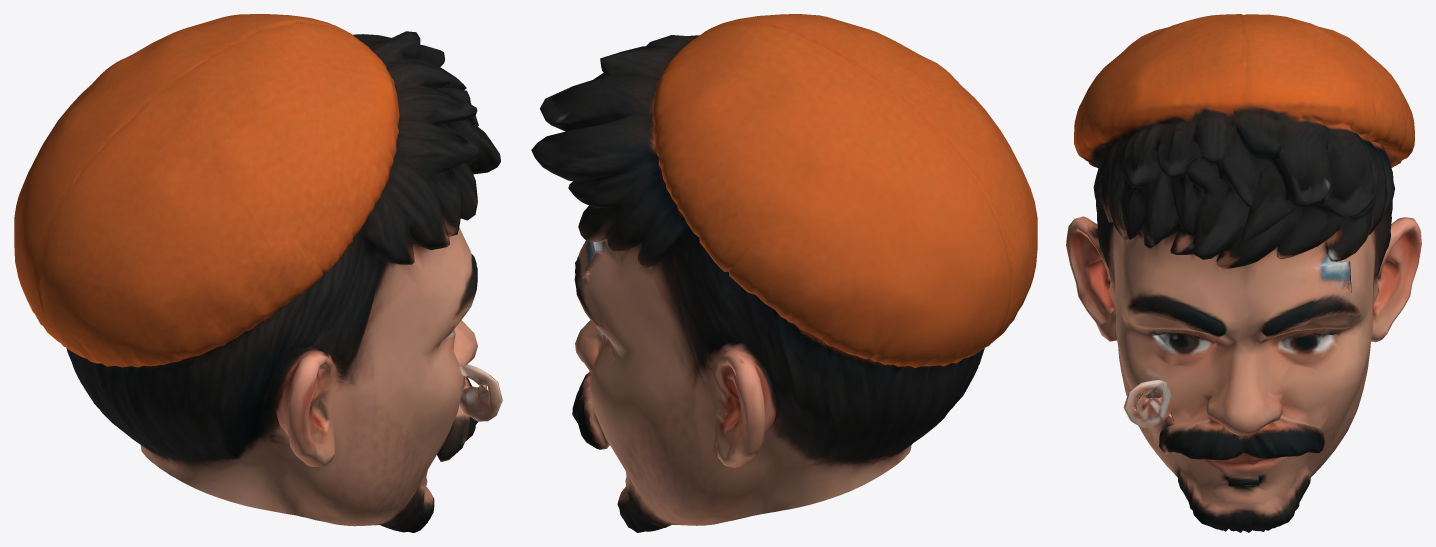
Rendered from vision-v1.glb.
3 renders of one model, left to right at view 1: azimuth 30°, elevation 25°; view 2: azimuth 150°, elevation 25°; view 3: azimuth 270°, elevation 25°, orthographic. The views are drawn at different scales.
Visible parts, largest first — view 1: vision-head; view 2: vision-head; view 3: vision-head.
Boxes of the visible parts, box(x1,y1,x2,y2) form: vision-head: box(14, 14, 502, 532); vision-head: box(531, 14, 1037, 532); vision-head: box(1066, 14, 1421, 532).
Size of the model in its own units: 0.2032 by 0.2311 by 0.1659.
1 material, 1 textured.
